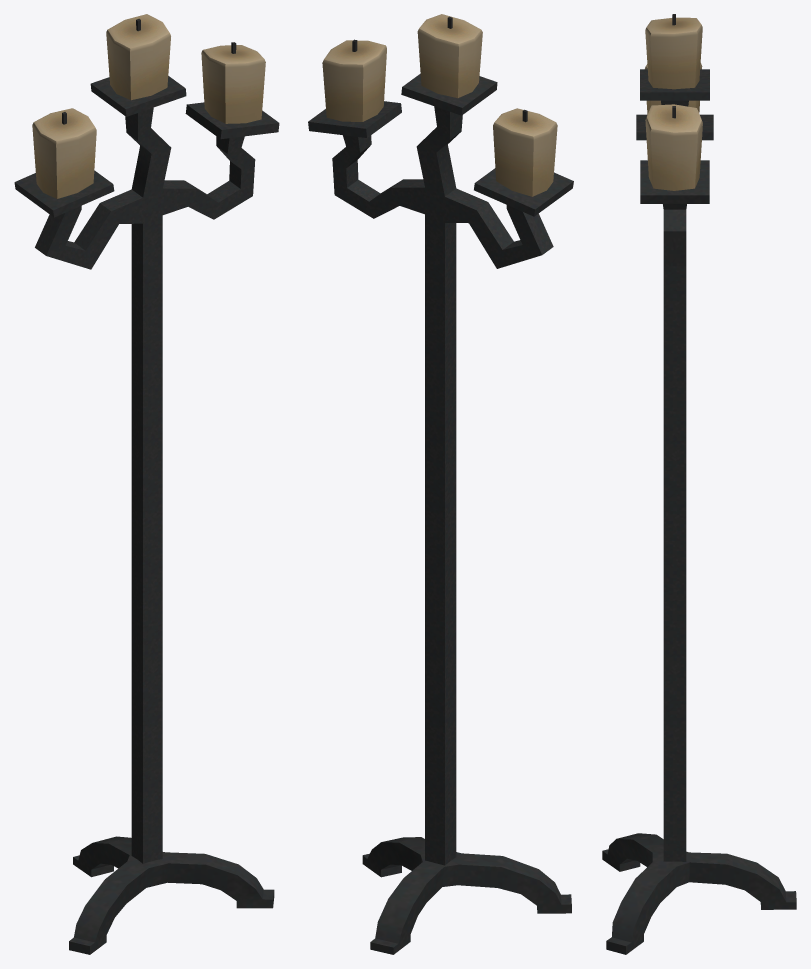
File: canndle stick.glb
The picture shows the model from 3 angles, left to right: view 1: azimuth 30°, elevation 25°; view 2: azimuth 150°, elevation 25°; view 3: azimuth 270°, elevation 25°; orthographic projection.
Visible parts, largest first — view 1: breakable_candleabra_stand; view 2: breakable_candleabra_stand; view 3: breakable_candleabra_stand.
Part boxes in pixels (x1,y1,x2,y2): breakable_candleabra_stand: [14, 14, 279, 954]; breakable_candleabra_stand: [308, 14, 573, 954]; breakable_candleabra_stand: [602, 14, 796, 954].
Size of the model in its own units: 0.596 by 2.22 by 0.4407.
Materials: 1 (1 with a texture image).
